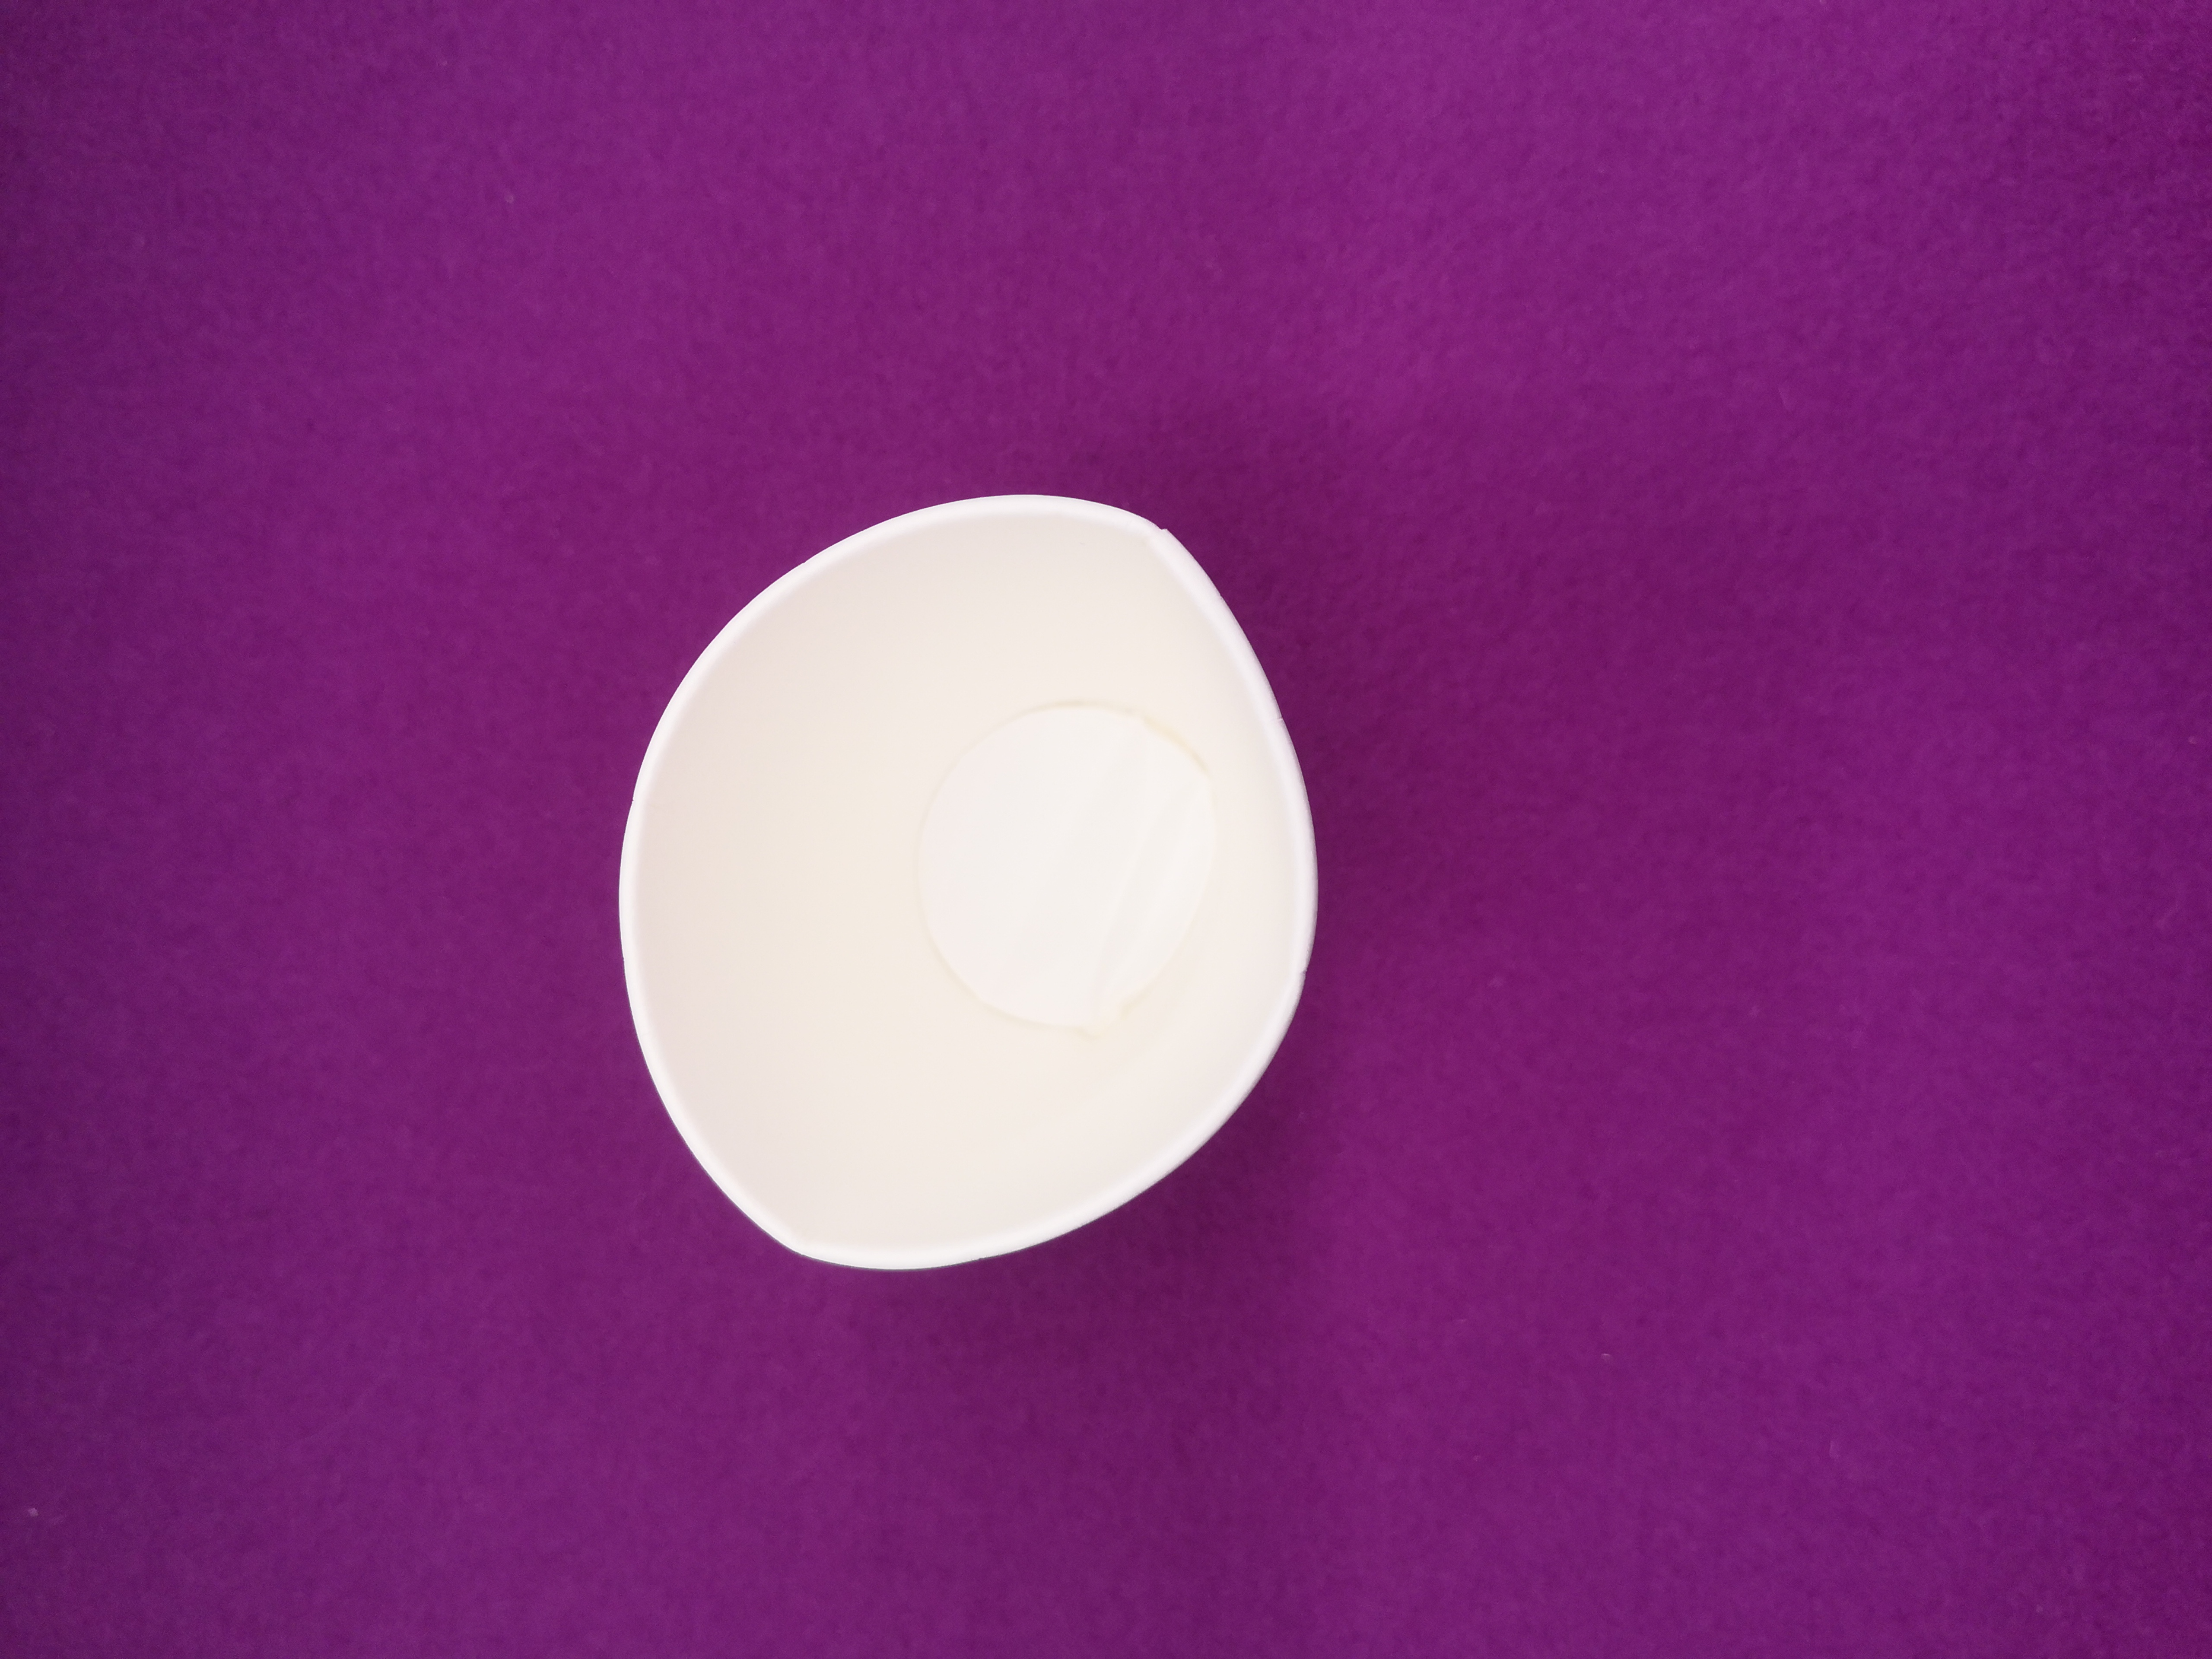cup: (592, 467, 1374, 1309)
